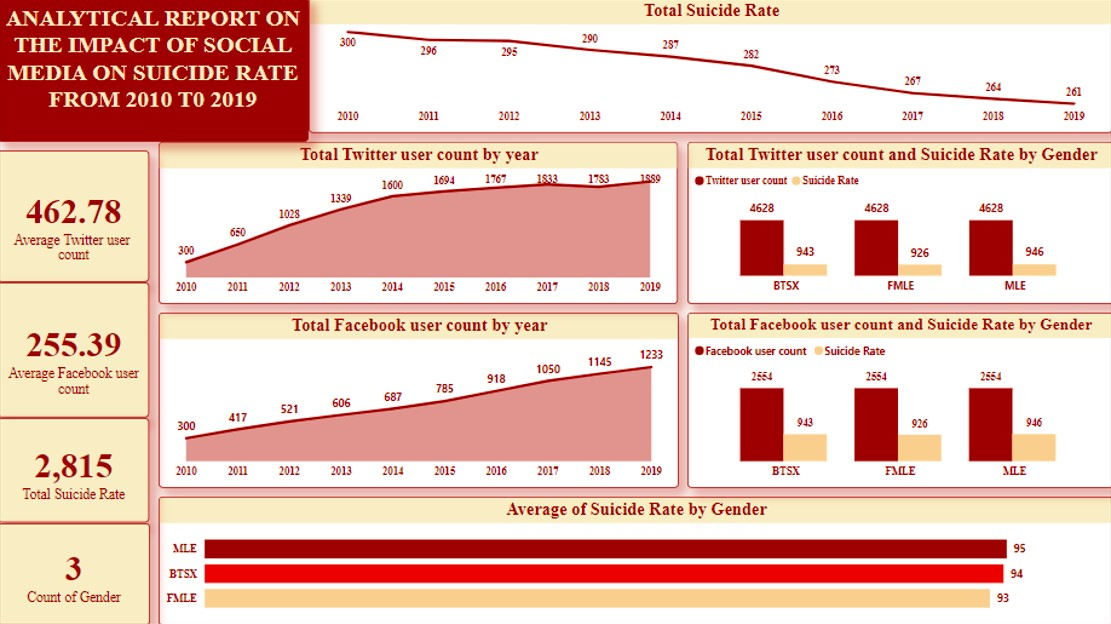

What the dashboard file says about the page in this screenshot:
{"tool":"powerbi","page":{"name":"Page 1","canvas":[1280,720],"ordinal":0},"visuals":[{"type":"areaChart","title":"Total Facebook user count by year","fields":{"Category":["social-media-impact-on-suicide-.year"],"Y":["Sum(social-media-impact-on-suicide-.Facebook user count % change since 2010)"]},"box":[184.5,360.6,597.2,201.4],"z":0},{"type":"lineChart","title":"Total Suicide Rate","fields":{"Category":["social-media-impact-on-suicide-.year"],"Y":["Sum(social-media-impact-on-suicide-.Suicide Rate % change since 2010)"]},"box":[357.3,0,923.2,155.4],"z":1000},{"type":"clusteredColumnChart","title":"Total Twitter user count and Suicide Rate by Gender","fields":{"Y":["Sum(social-media-impact-on-suicide-.Twitter user count % change since 2010)","Sum(social-media-impact-on-suicide-.Suicide Rate % change since 2010)"],"Category":["social-media-impact-on-suicide-.sex"]},"box":[791.9,164.9,489.2,186.5],"z":2000},{"type":"areaChart","title":"Total Twitter user count by year","fields":{"Category":["social-media-impact-on-suicide-.year"],"Y":["Sum(social-media-impact-on-suicide-.Twitter user count % change since 2010)"]},"box":[185.1,164.9,595.9,186.5],"z":3000},{"type":"textbox","box":[0,0,356.8,164.9],"z":4000},{"type":"barChart","title":"Average of Suicide Rate by Gender","fields":{"Category":["social-media-impact-on-suicide-.sex"],"Y":["Avg(social-media-impact-on-suicide-.Suicide Rate % change since 2010)"]},"box":[184.5,571.8,1095.8,147.9],"z":5000},{"type":"clusteredColumnChart","title":"Total Facebook user count and Suicide Rate by Gender","fields":{"Y":["Sum(social-media-impact-on-suicide-.Facebook user count % change since 2010)","Sum(social-media-impact-on-suicide-.Suicide Rate % change since 2010)"],"Category":["social-media-impact-on-suicide-.sex"]},"box":[791.5,360.6,488.7,201.4],"z":6000},{"type":"card","fields":{"Values":["Avg(social-media-impact-on-suicide-.Twitter user count % change since 2010)"]},"box":[0,175.7,174.3,151.4],"z":7000},{"type":"card","fields":{"Values":["Avg(social-media-impact-on-suicide-.Facebook user count % change since 2010)"]},"box":[0,327,174.3,155.4],"z":8000},{"type":"card","fields":{"Values":["Sum(social-media-impact-on-suicide-.Suicide Rate % change since 2010)"]},"box":[0,482.4,174.3,120.3],"z":9000},{"type":"card","fields":{"Values":["Count(social-media-impact-on-suicide-.sex)"]},"box":[0,602.8,174.6,116.9],"z":10000}]}

Visuals, with their boxes in screenshot pixels (x1, y1, x2, y2), scaled from the page's 1280x720 canvas onto the 1111x624 screenshot:
"Total Facebook user count by year" areaChart: <bbox>160, 313, 678, 487</bbox>
"Total Suicide Rate" lineChart: <bbox>310, 0, 1110, 135</bbox>
"Total Twitter user count and Suicide Rate by Gender" clusteredColumnChart: <bbox>687, 143, 1110, 305</bbox>
"Total Twitter user count by year" areaChart: <bbox>161, 143, 678, 305</bbox>
textbox: <bbox>0, 0, 310, 143</bbox>
"Average of Suicide Rate by Gender" barChart: <bbox>160, 496, 1110, 623</bbox>
"Total Facebook user count and Suicide Rate by Gender" clusteredColumnChart: <bbox>687, 313, 1110, 487</bbox>
card - Avg(social-media-impact-on-suicide-.Twitter user count % change since 2010): <bbox>0, 152, 151, 283</bbox>
card - Avg(social-media-impact-on-suicide-.Facebook user count % change since 2010): <bbox>0, 283, 151, 418</bbox>
card - Sum(social-media-impact-on-suicide-.Suicide Rate % change since 2010): <bbox>0, 418, 151, 522</bbox>
card - Count(social-media-impact-on-suicide-.sex): <bbox>0, 522, 152, 623</bbox>
